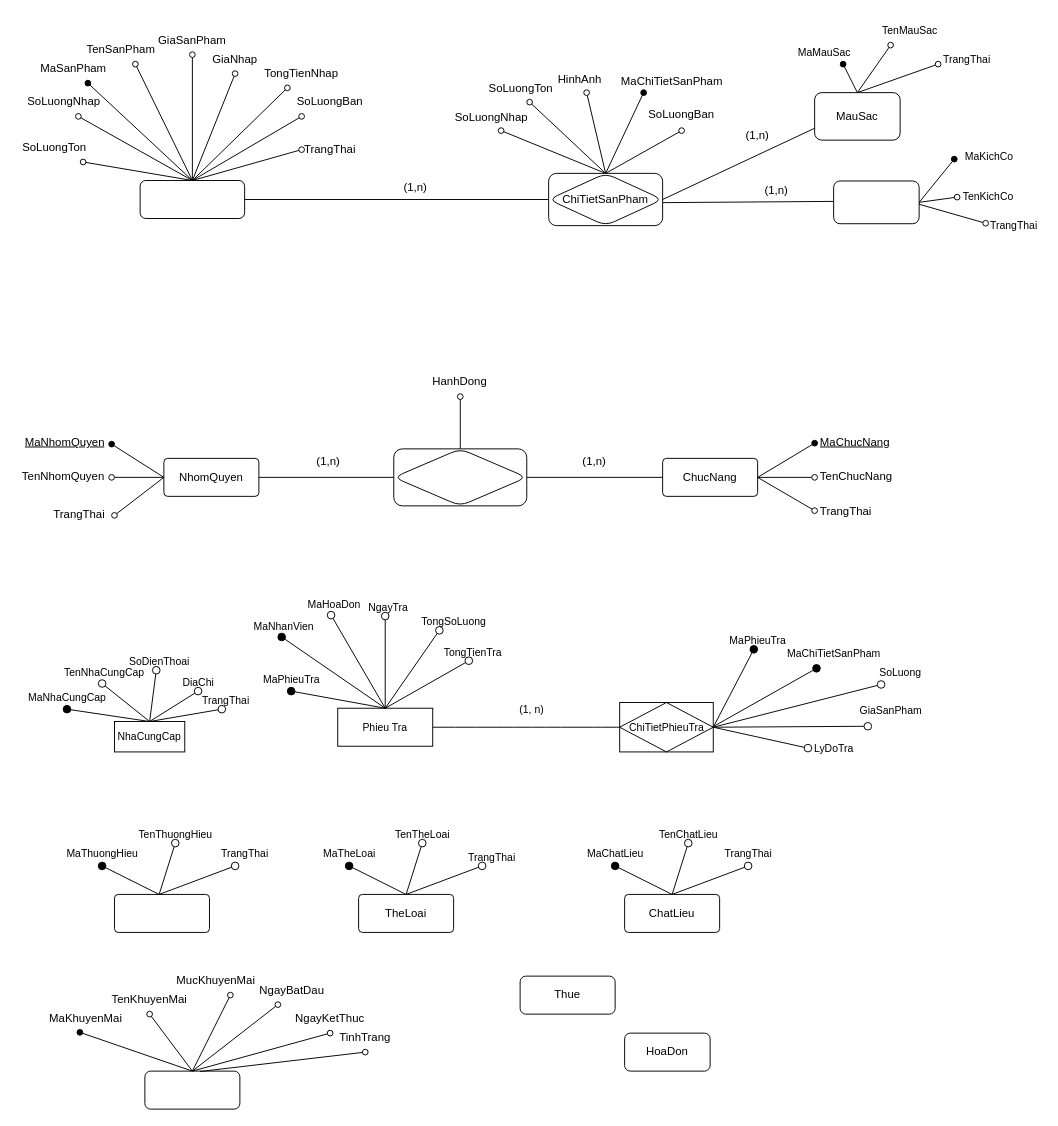
Image size: 1058x1126. Some labels were removed from this diagram. The centre of each missing label's shape, as x and y in pixels:
"ChiTietQuyen" belongs at point 460,477.
"KhuyenMai" belongs at point 192,1089.
"KichCo" belongs at point 876,202.
"SanPham" belongs at point 192,199.
"ThuongHieu" belongs at point 161,912.
